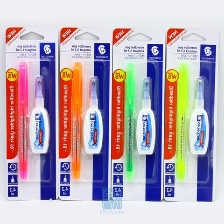book: (161, 26, 221, 203), (110, 25, 168, 205), (57, 25, 115, 201), (3, 25, 59, 202)
correction_fluid: (81, 75, 106, 157), (187, 74, 212, 156), (27, 75, 51, 156), (135, 76, 157, 155)
